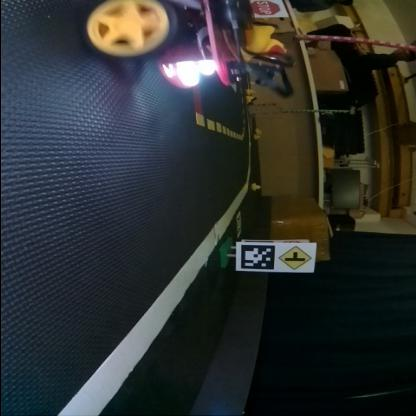Duckie: (244, 26, 286, 53), (246, 88, 254, 94), (252, 182, 260, 187), (246, 96, 253, 100)
Intersection sign: (278, 244, 312, 270)
QR code: (240, 245, 276, 269), (235, 210, 242, 236)
Stop sign: (248, 2, 282, 16)
